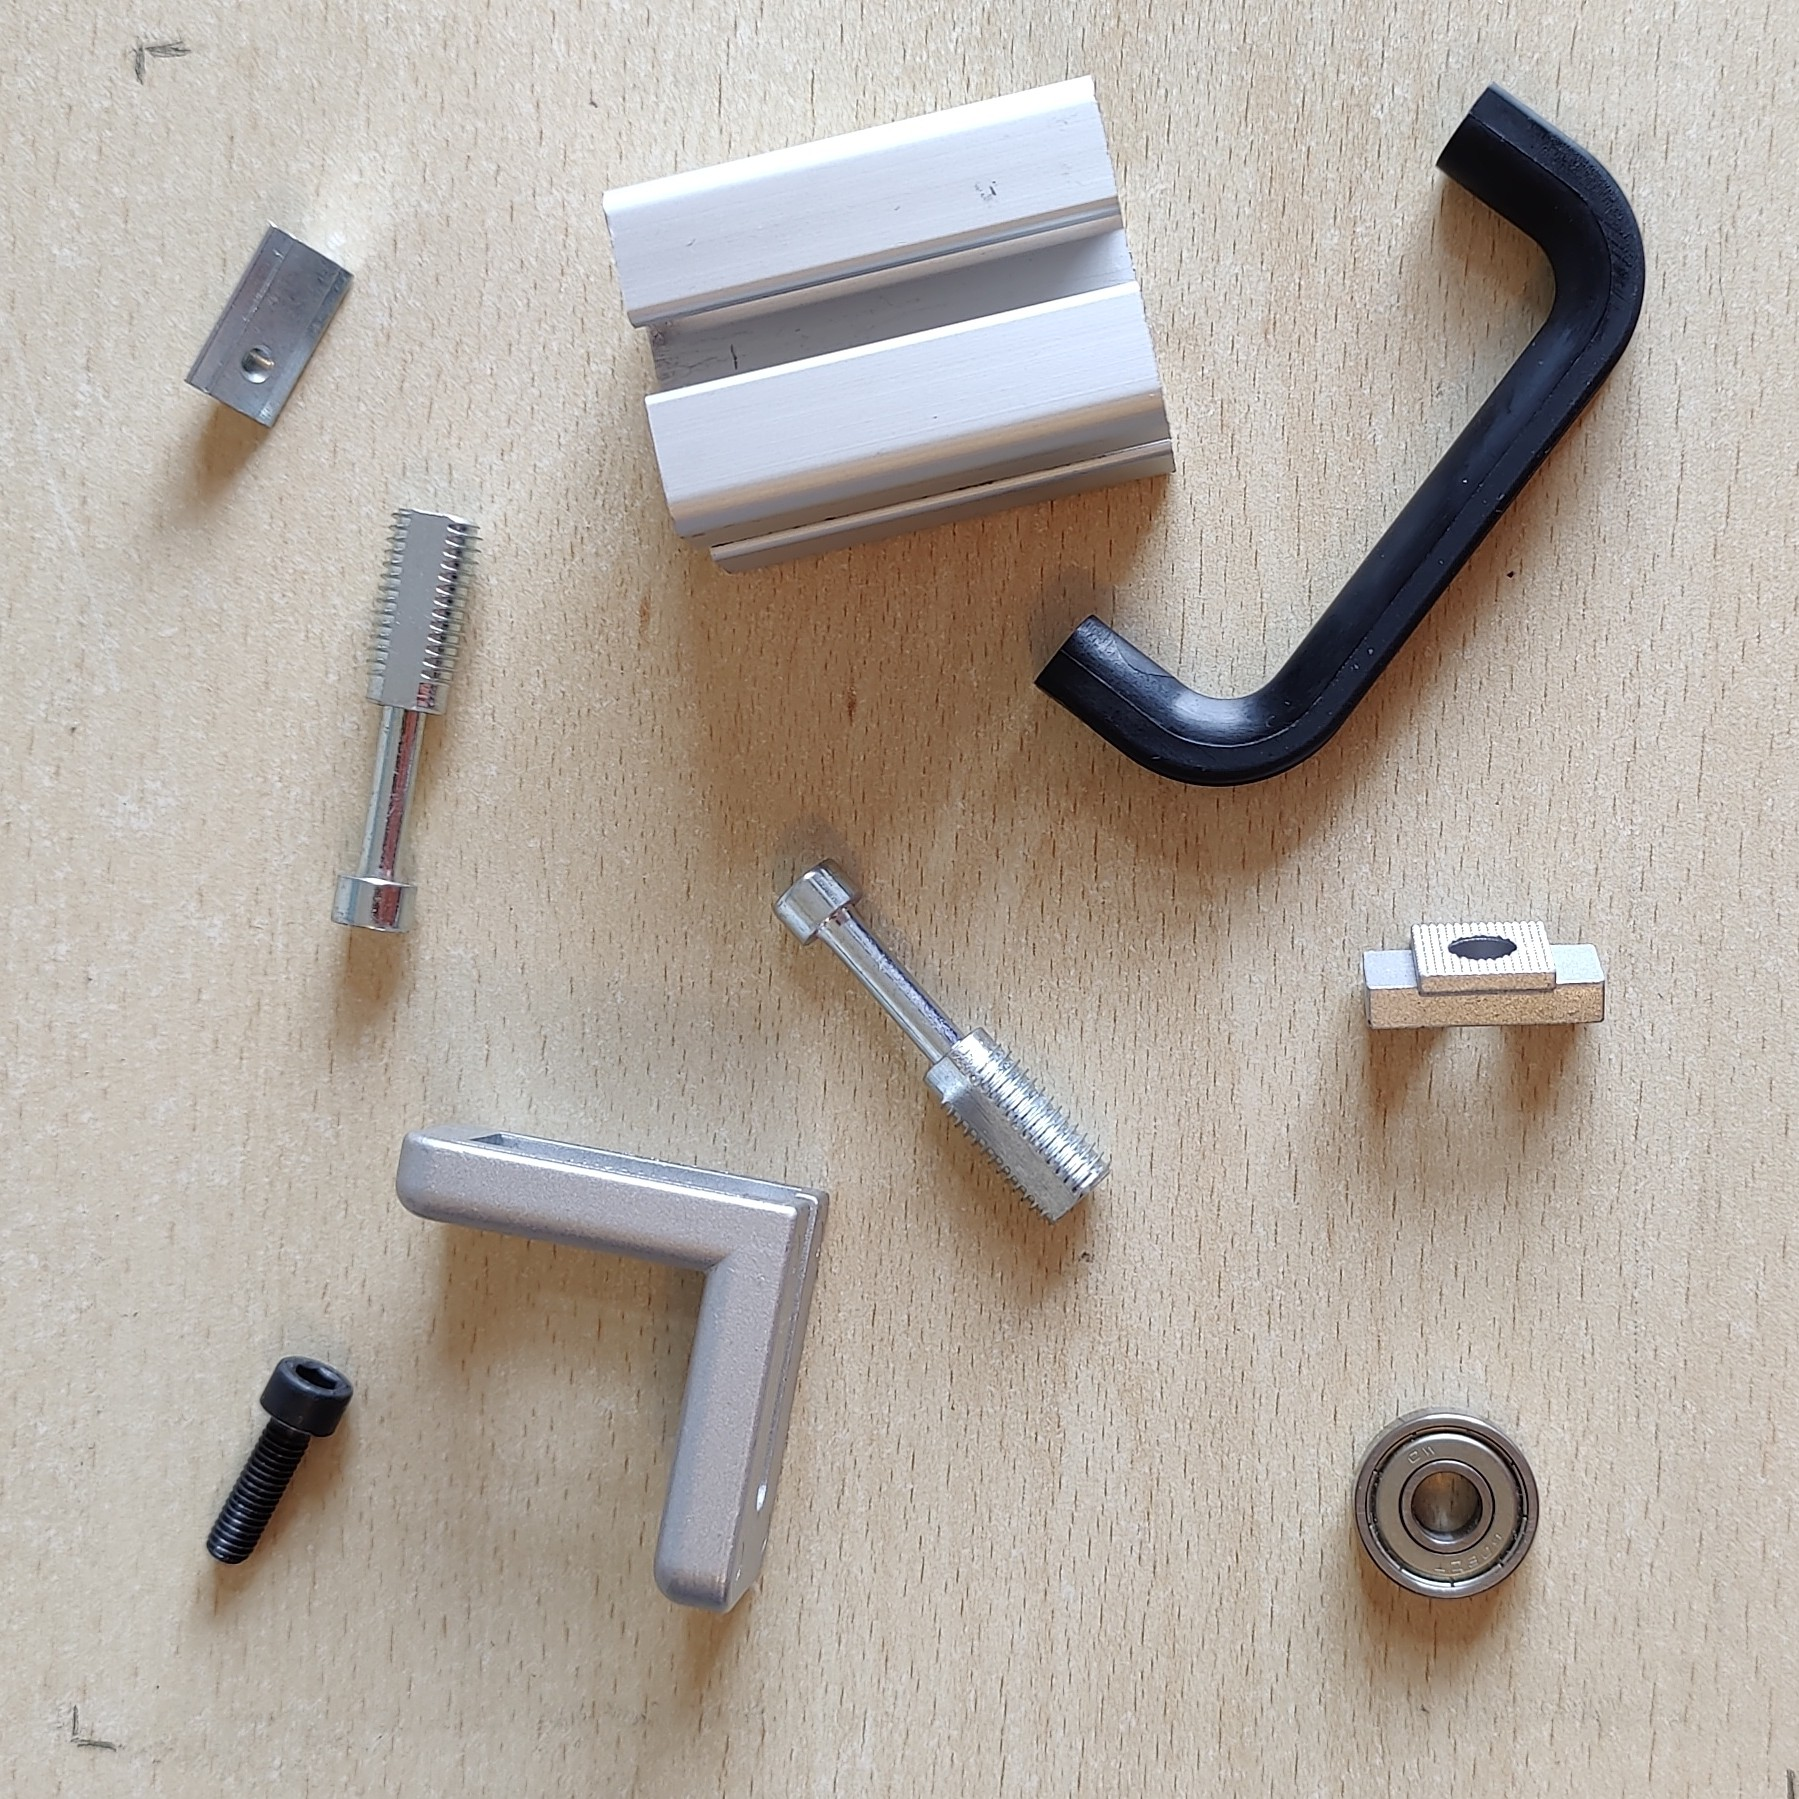Aluminium Extension: (601, 76, 1181, 577)
Ball Bearing: (1353, 1409, 1542, 1603)
Multiwinkel: (394, 1120, 834, 1614)
Pull Handle: (1030, 77, 1647, 791)
Shoulder Socket Head Cap Screw: (769, 853, 1119, 1227), (329, 507, 481, 937)
Socket Head Cap Screw: (204, 1353, 354, 1567)
T Nut Square: (1357, 918, 1608, 1036)
T Spring Nut: (181, 221, 357, 435)
